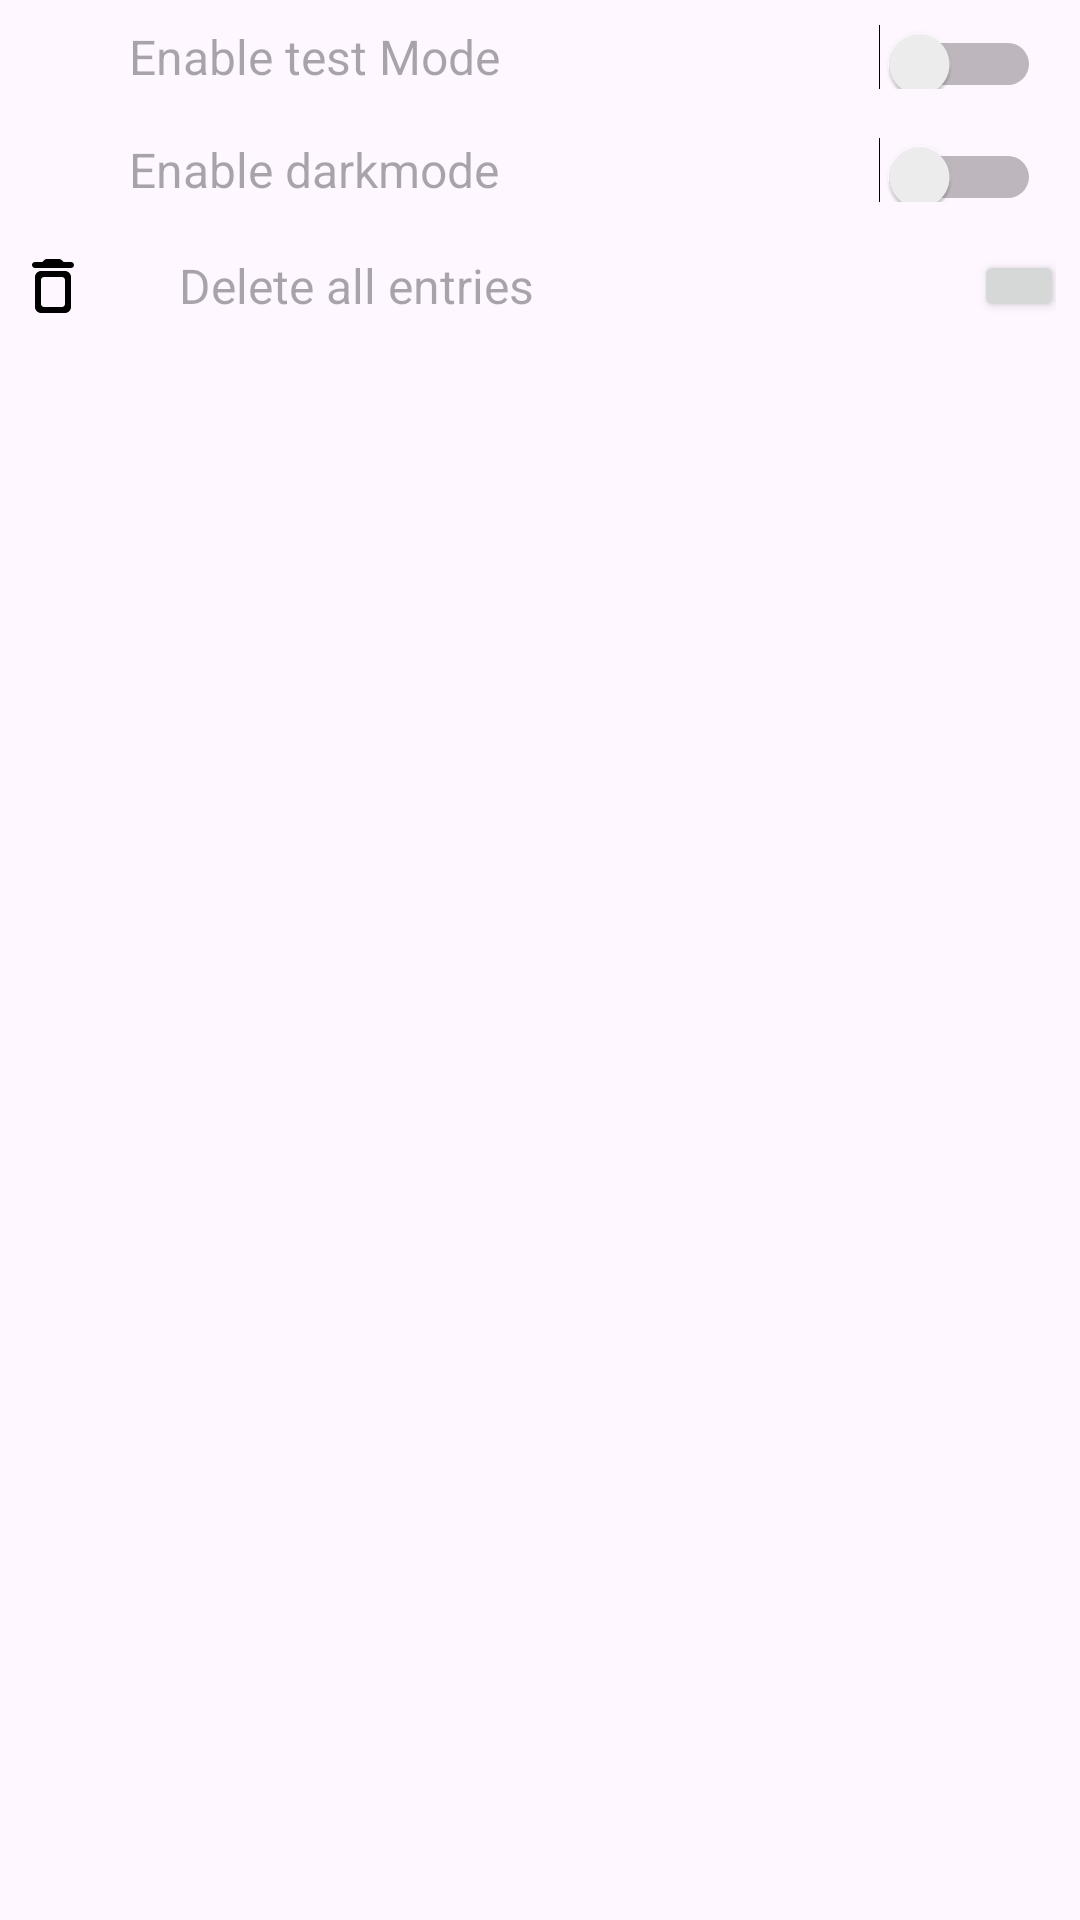

Where icons sit on this 1080w x 1920h app screen, as detection(x1, y1, x2, y2):
reminder delete: detection(32, 259, 74, 313)
